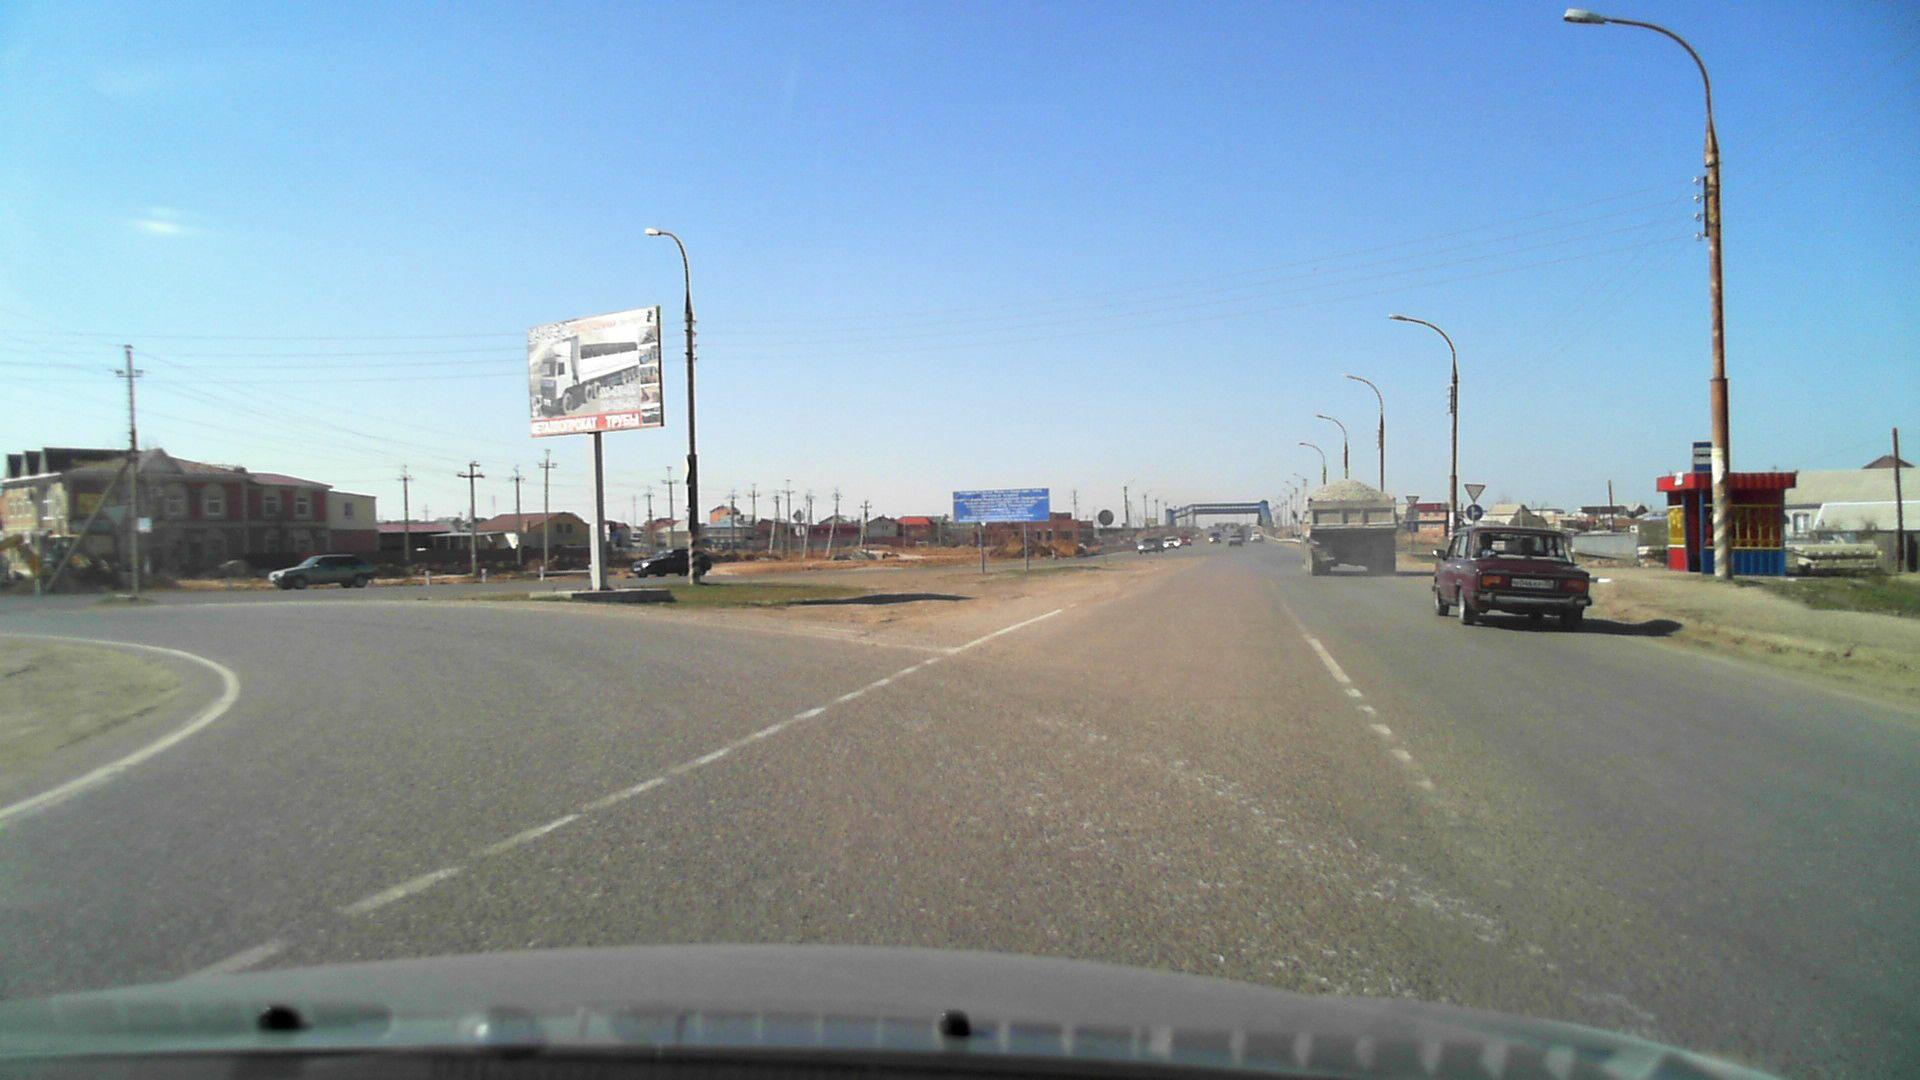2_4: (103, 504, 129, 525), (1462, 483, 1486, 501), (1406, 493, 1420, 506)
4_1_1: (1406, 522, 1419, 534)
4_1_4: (1465, 504, 1484, 521)
5_16: (1691, 442, 1713, 473)
8_13: (1406, 508, 1420, 520)
